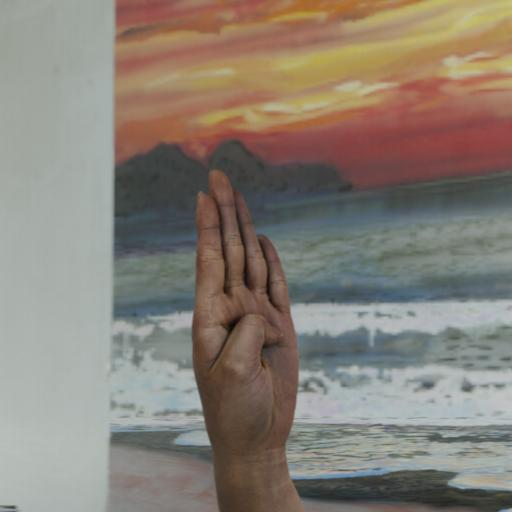B: (168, 156, 296, 437)
